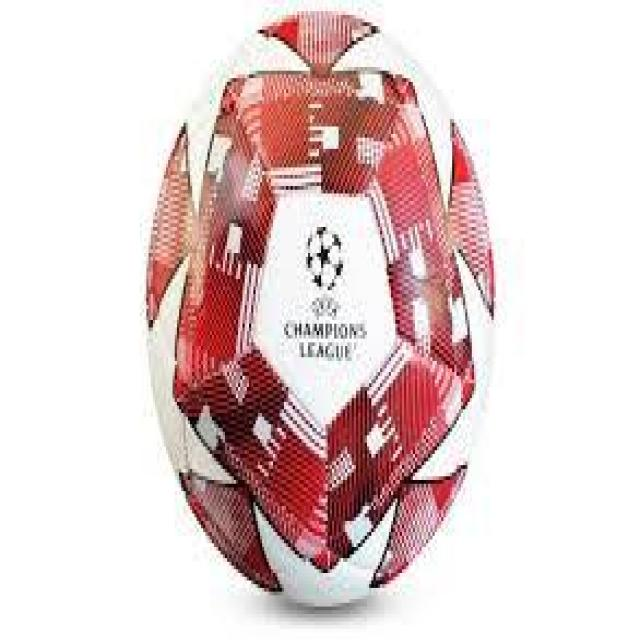ball: (142, 3, 500, 617)
